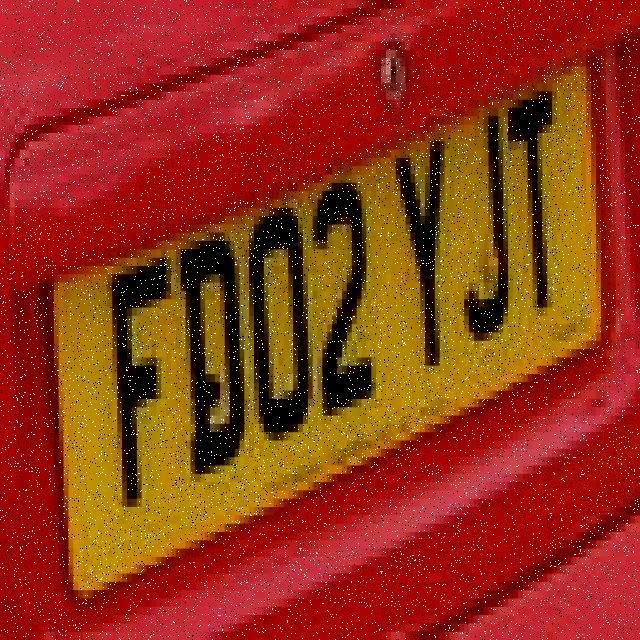LicensePlate: (36, 47, 633, 589)
